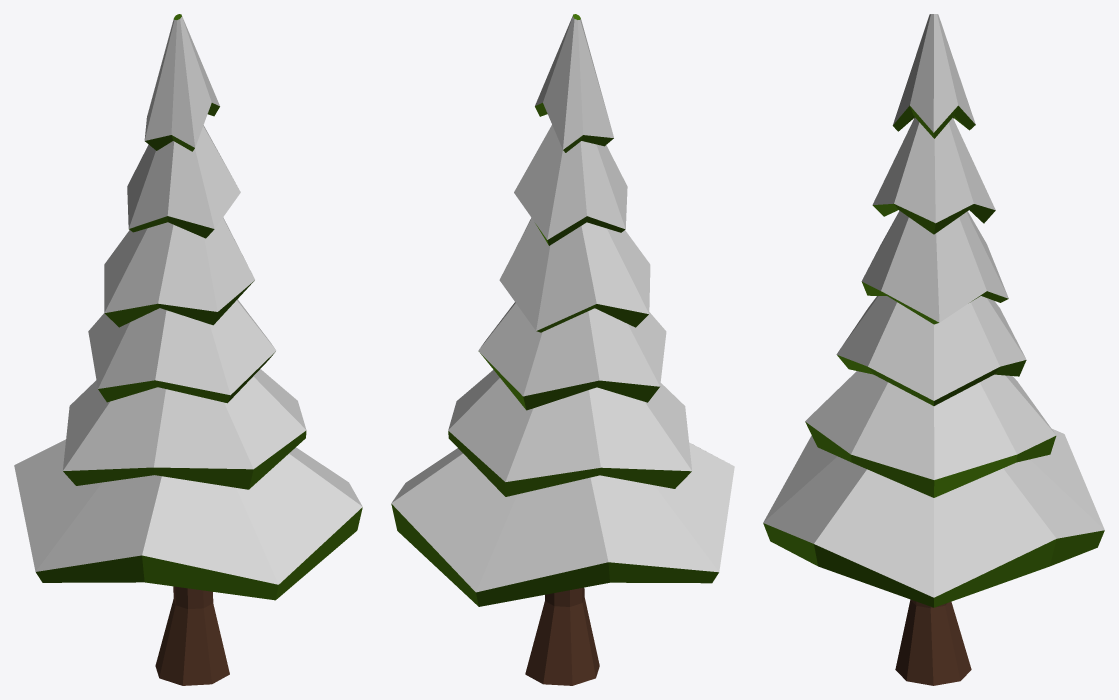
File: Tree_Snow_Pine_Straight.fbx
The picture shows the model from 3 angles, left to right: view 1: azimuth 30°, elevation 25°; view 2: azimuth 150°, elevation 25°; view 3: azimuth 270°, elevation 25°; orthographic projection.
Visible parts, largest first — view 1: Tree_Snow_Pine_Straight; view 2: Tree_Snow_Pine_Straight; view 3: Tree_Snow_Pine_Straight.
Boxes of the visible parts, x1,y1,x2,y2 form: Tree_Snow_Pine_Straight: (14,14,362,685); Tree_Snow_Pine_Straight: (391,14,734,685); Tree_Snow_Pine_Straight: (763,14,1104,685).
Bounding box in the file's own units: 9.53 × 19.12 × 9.1.
